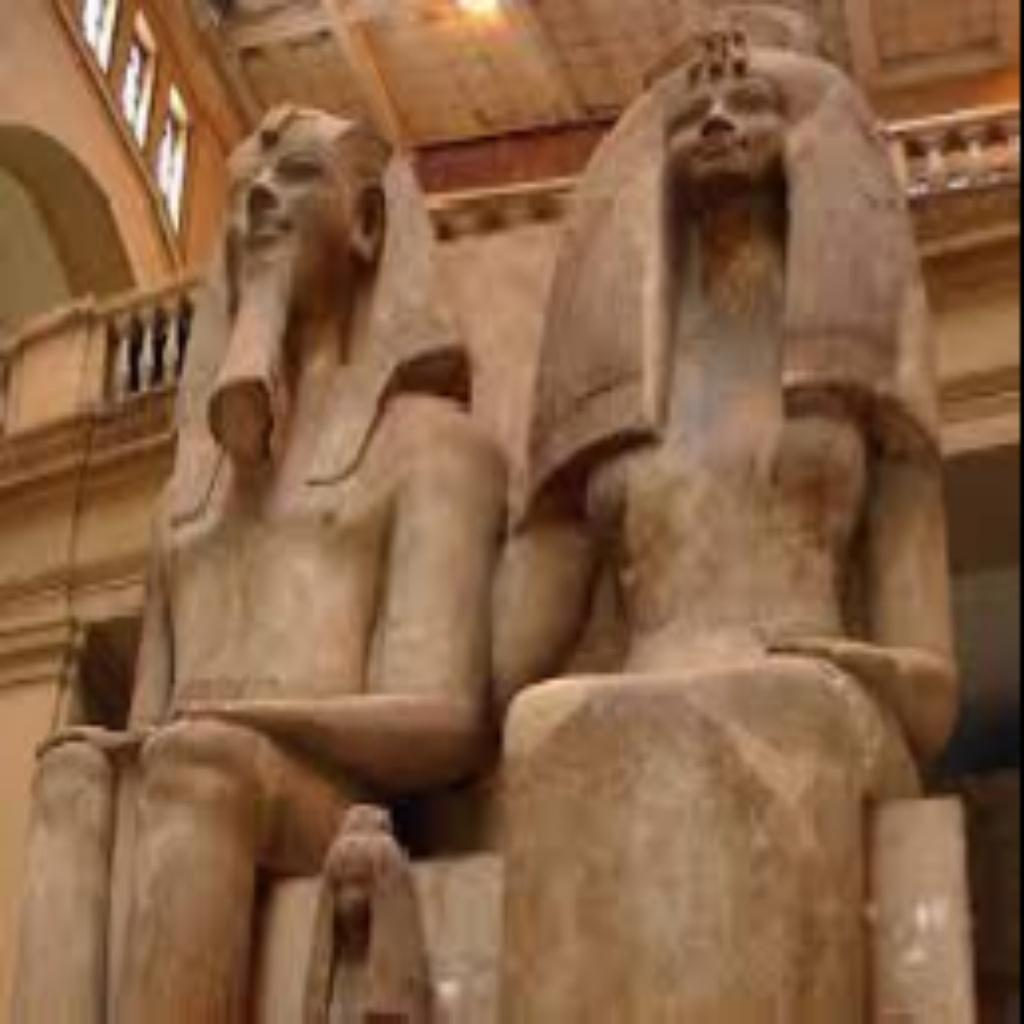Amenhotep III and Tiye: (12, 26, 960, 1019)
